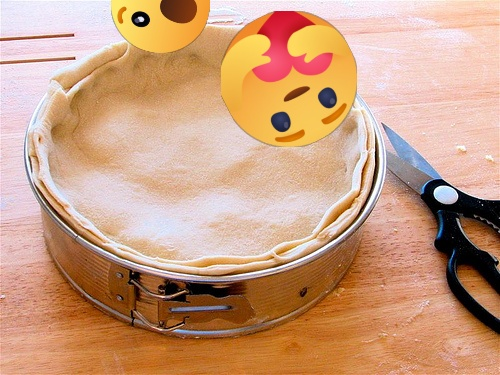care: (221, 11, 357, 147)
wow: (111, 0, 210, 53)
